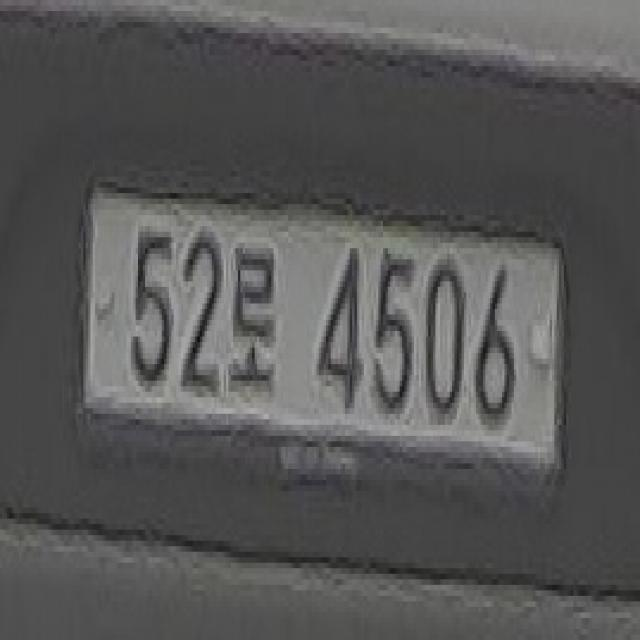0: (418, 249, 466, 420)
2: (178, 224, 225, 410)
4: (313, 232, 365, 419)
5: (128, 213, 173, 407), (370, 240, 416, 418)
6: (468, 260, 518, 424)
license_plate: (74, 159, 581, 512)
lo: (228, 238, 282, 402)
